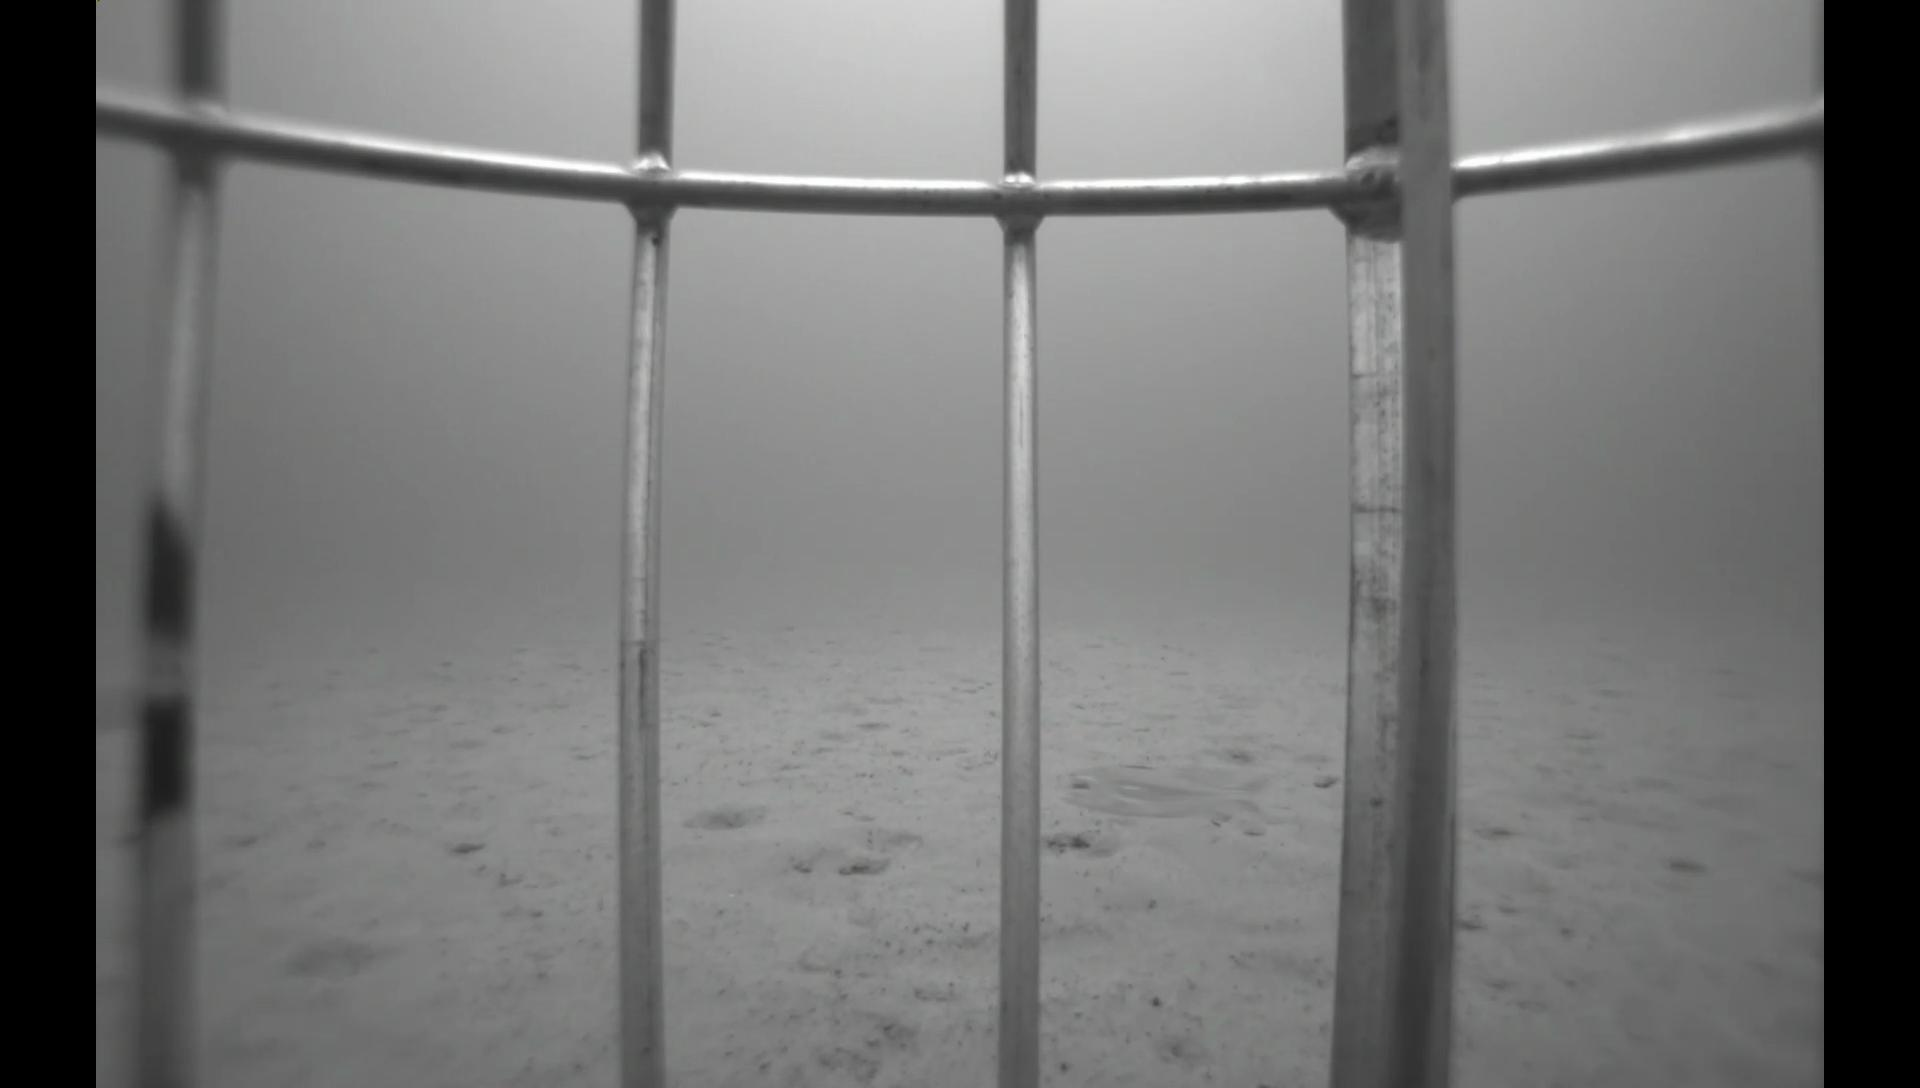CAULOLATILUSCYANOPS-170070101: (1044, 746, 1308, 852)
